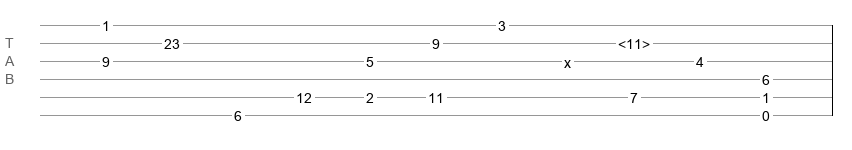0: (762, 108, 770, 118)
1: (102, 18, 110, 28), (762, 90, 770, 100)
11: (428, 90, 444, 100)
12: (296, 90, 312, 100)
2: (366, 90, 374, 100)
23: (164, 36, 180, 46)
3: (498, 18, 506, 28)
4: (696, 54, 704, 64)
5: (366, 54, 374, 64)
6: (234, 108, 242, 118), (762, 72, 770, 82)
7: (630, 90, 638, 100)
9: (102, 54, 110, 64), (432, 36, 440, 46)
harmonic: (618, 36, 650, 46)
x: (564, 55, 571, 63)
